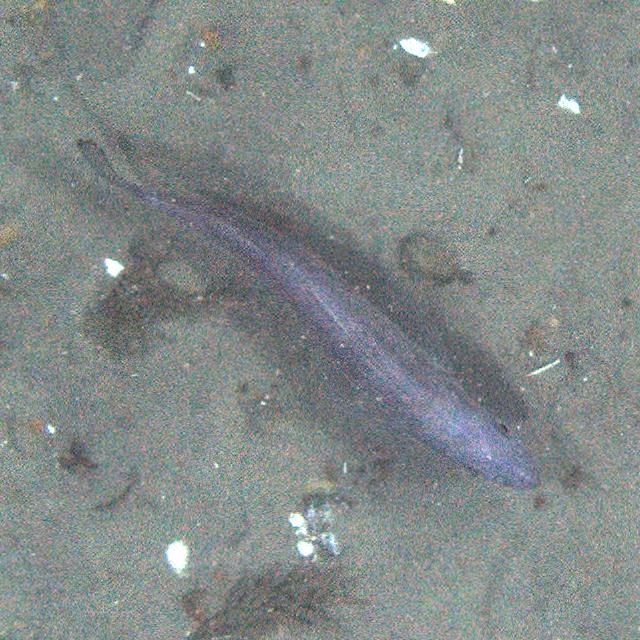roundfish: (77, 133, 548, 500)
